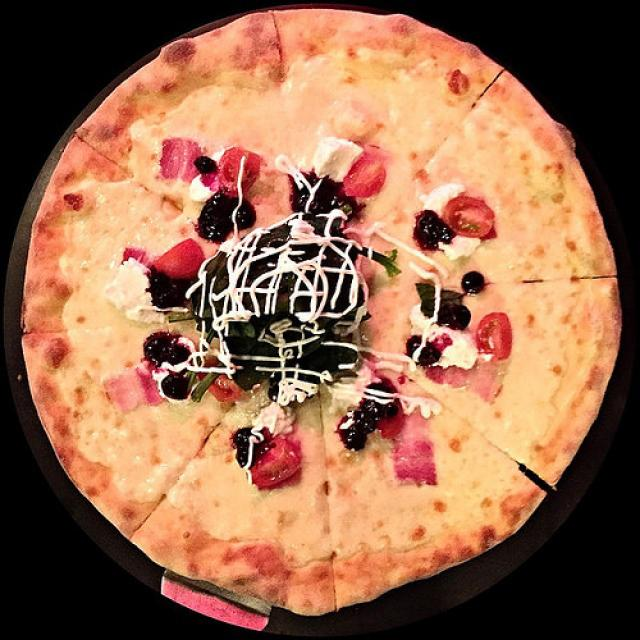Wet Waste: (9, 5, 625, 622)
